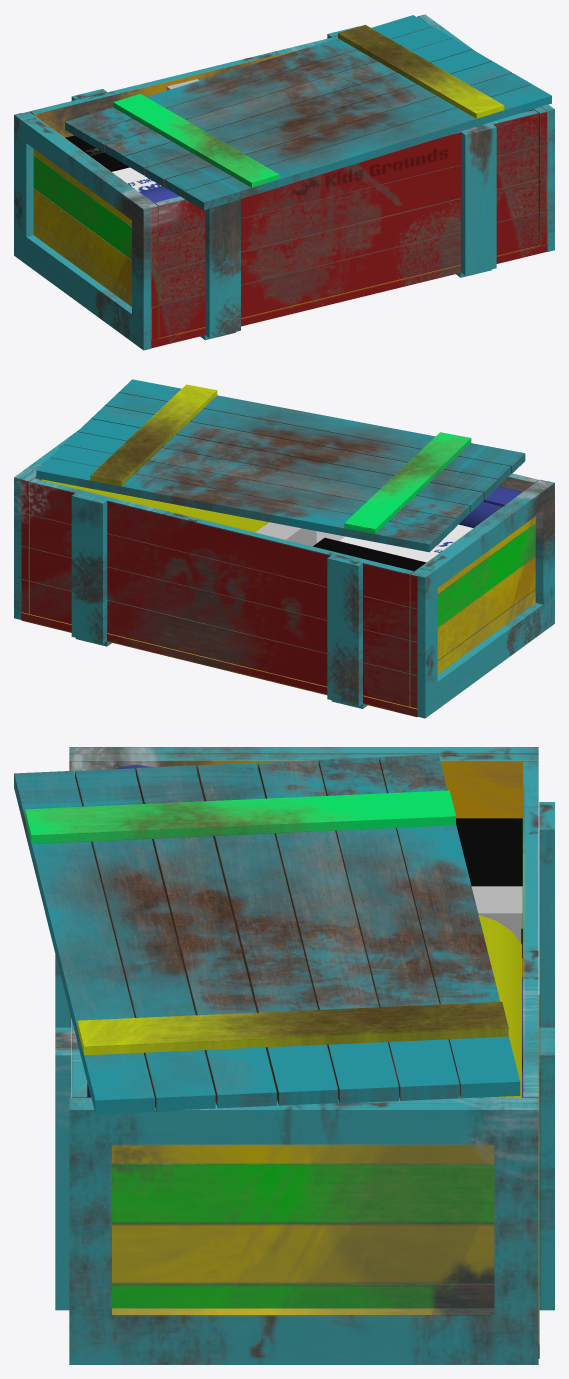
File: WoodBox_MESH.fbx
The picture shows the model from 3 angles, top to bottom: view 1: azimuth 30°, elevation 25°; view 2: azimuth 150°, elevation 25°; view 3: azimuth 270°, elevation 25°; orthographic projection. The views are drawn at different scales.
Parts seen in each view (by area): view 1: OnlyBox_MESH, BoxTampa_MESH, ShoeBox_MESH, ShoeBox_MESH1; view 2: OnlyBox_MESH, BoxTampa_MESH, Cartolina01_MESH, ShoeBox_MESH, ShoeBox_MESH1, Cartolina02_MESH, GiftBox_MESH; view 3: OnlyBox_MESH, BoxTampa_MESH, ShoeBox_MESH, Cartolina01_MESH, GiftBox_MESH.
Boxes of the visible parts, <box> form: OnlyBox_MESH: <box>14,14,554,350</box>; BoxTampa_MESH: <box>65,15,551,210</box>; ShoeBox_MESH: <box>65,135,129,171</box>; ShoeBox_MESH1: <box>112,167,161,191</box>; OnlyBox_MESH: <box>14,431,554,718</box>; BoxTampa_MESH: <box>36,379,525,552</box>; Cartolina01_MESH: <box>41,479,268,532</box>; ShoeBox_MESH: <box>313,537,426,571</box>; ShoeBox_MESH1: <box>339,524,472,562</box>; Cartolina02_MESH: <box>458,486,522,527</box>; GiftBox_MESH: <box>255,522,316,546</box>; OnlyBox_MESH: <box>55,747,554,1364</box>; BoxTampa_MESH: <box>14,754,520,1114</box>; ShoeBox_MESH: <box>456,818,522,958</box>; Cartolina01_MESH: <box>399,915,521,1097</box>; GiftBox_MESH: <box>471,886,522,942</box>.
Bounding box in the file's own units: 7.66 × 2.8 × 4.78.
